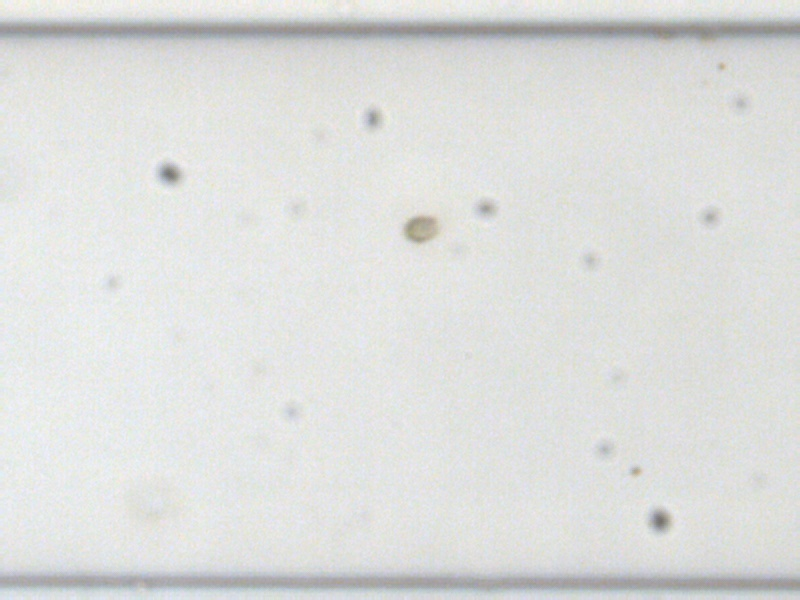Chlorella: (629, 464, 642, 476)
Dunaliella salina: (401, 212, 445, 243)
